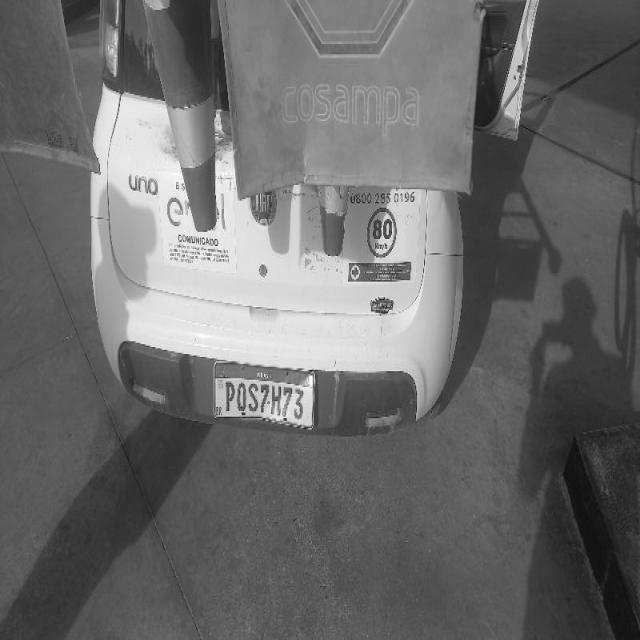placa_mercosul: (214, 365, 317, 431)
